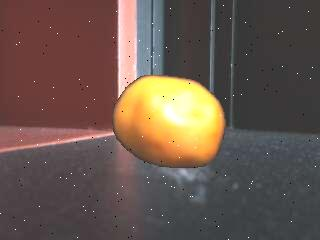Potato: (110, 73, 225, 171)
